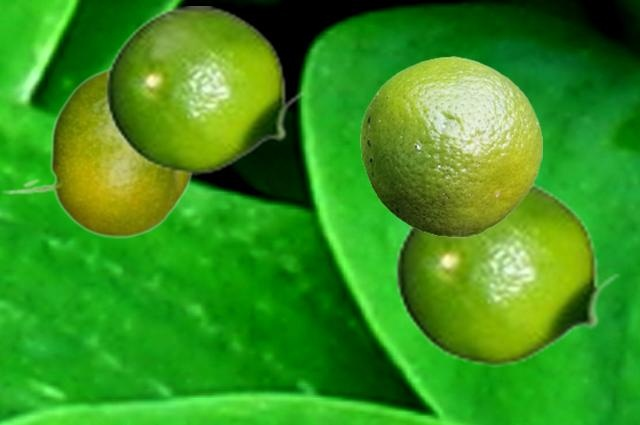calamansi: (394, 179, 621, 366), (104, 6, 306, 174), (1, 66, 195, 237), (360, 56, 541, 236)
